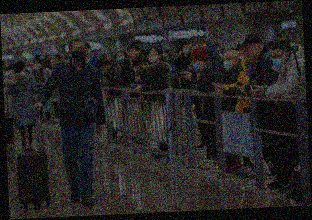mask_weared_incorrect: (148, 50, 159, 63)
with_mask: (270, 51, 286, 70), (71, 45, 87, 62), (223, 55, 234, 71), (192, 59, 202, 73), (116, 53, 126, 63), (182, 45, 190, 54)
without_mask: (244, 44, 259, 61), (127, 47, 138, 59), (134, 65, 145, 73), (100, 66, 110, 74)
